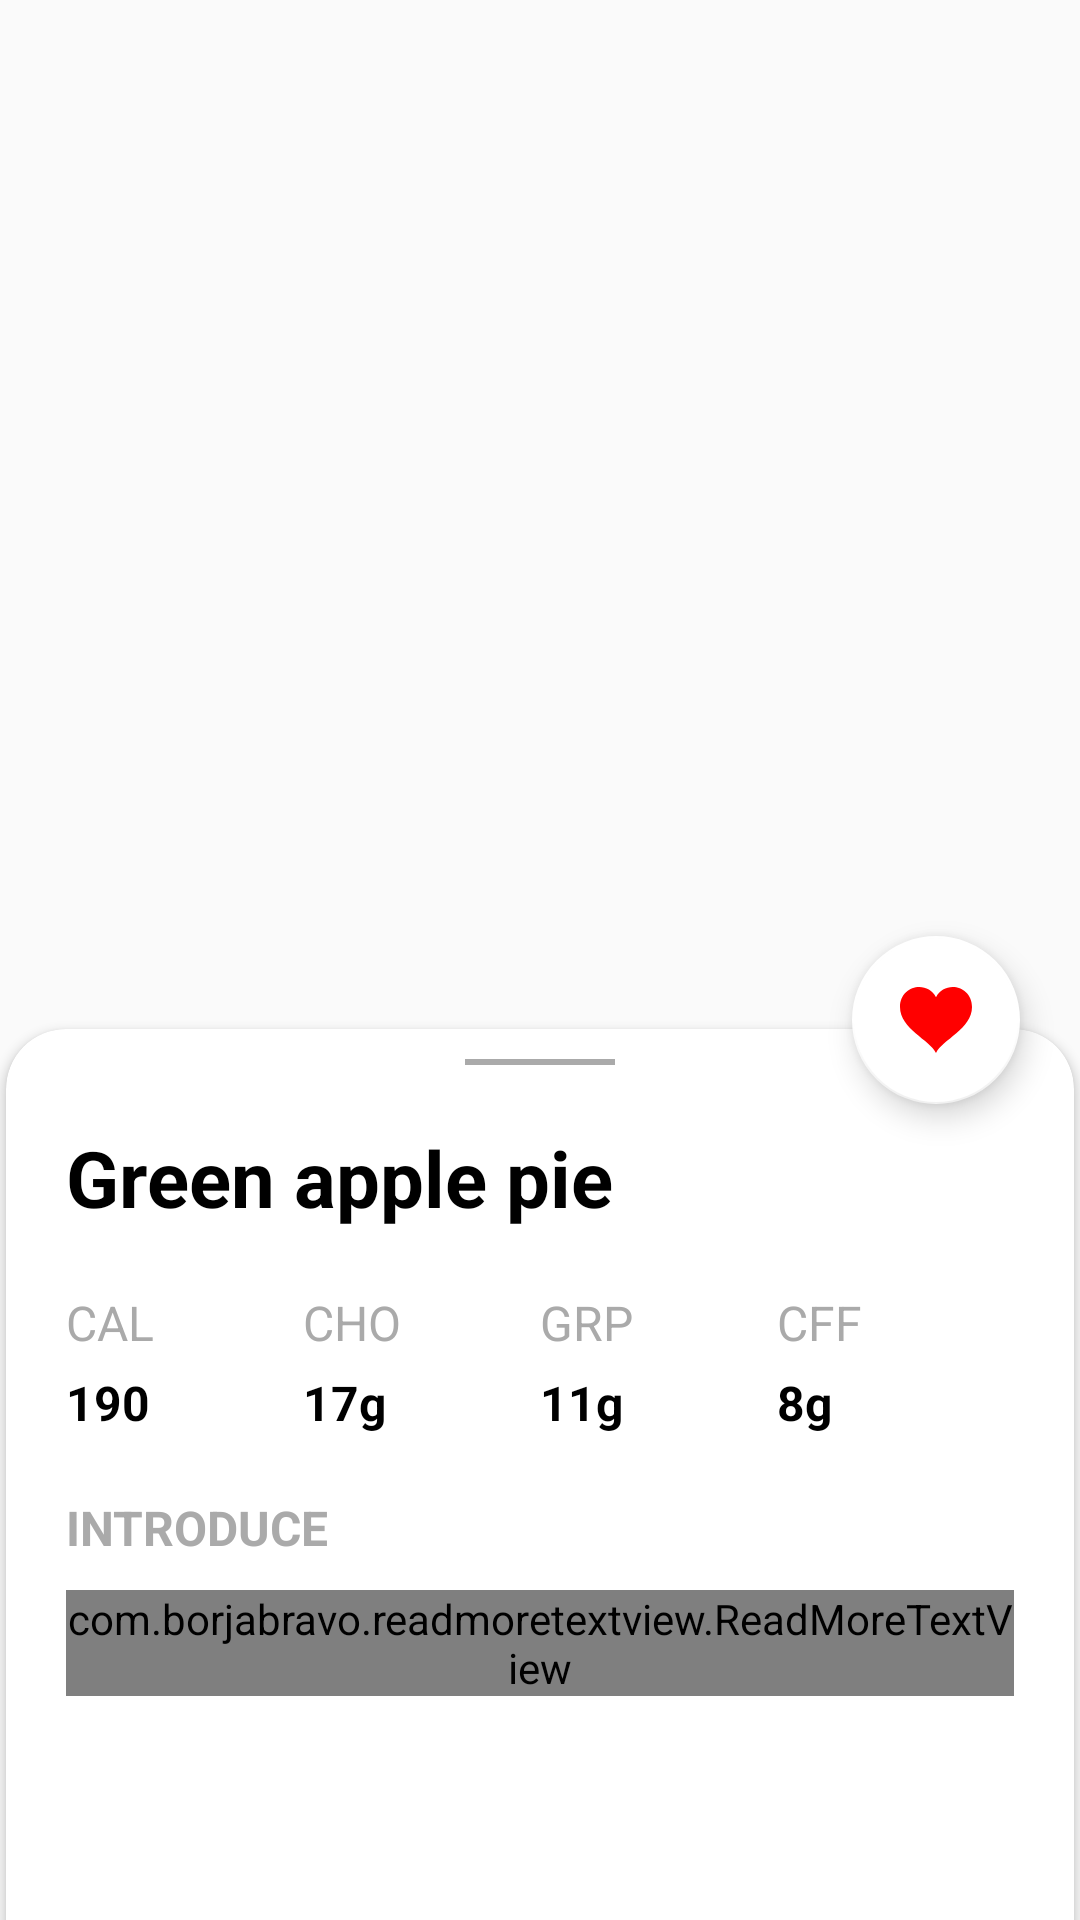

Locate icon controls on the screen. Image size 1080px×1920px, boxes as (x1, y1, x2, y2).
iconmonstr favorite: (870, 987, 1018, 1074)
